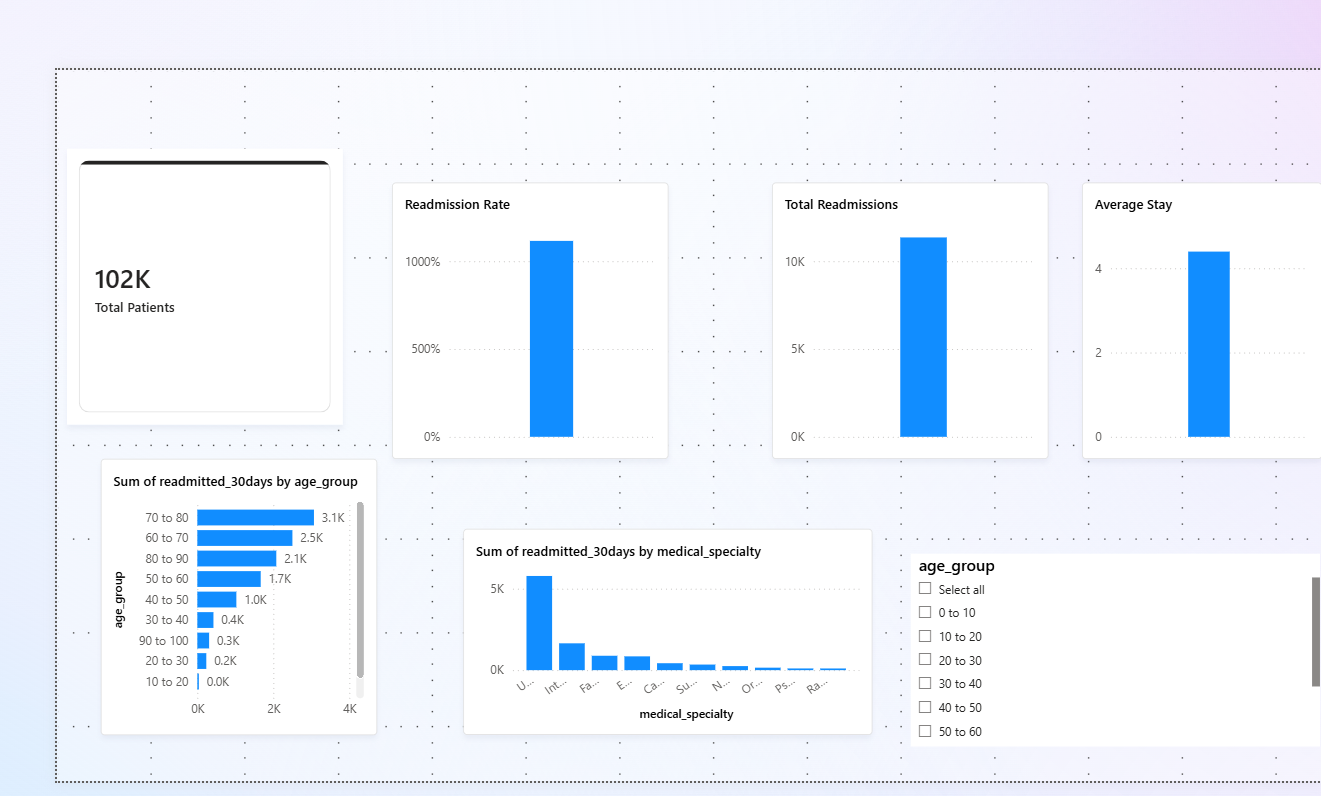

The page's visual inventory and layout, read from the dashboard file:
{"tool":"powerbi","page":{"name":"Page 1","canvas":[1280,720],"ordinal":0},"visuals":[{"type":"cardVisual","fields":{"Data":["patients_clean.Total Patients"]},"box":[9.6,79.6,279.9,279.9],"z":0},{"type":"clusteredColumnChart","fields":{"Y":["patients_clean.Readmission Rate"]},"box":[338.9,113.9,279.9,279.9],"z":1000},{"type":"clusteredColumnChart","fields":{"Y":["patients_clean.Total Readmissions"]},"box":[724.5,113.9,279.9,279.9],"z":2000},{"type":"clusteredColumnChart","fields":{"Y":["patients_clean.Average Stay"]},"box":[1037.4,113.9,242.9,279.9],"z":3000},{"type":"clusteredBarChart","fields":{"Category":["patients_clean.age_group"],"Y":["Sum(patients_clean.readmitted_30days)"]},"box":[43.9,393.8,279.9,279.9],"z":4000},{"type":"clusteredColumnChart","fields":{"Category":["patients_clean.medical_specialty"],"Y":["Sum(patients_clean.readmitted_30days)"]},"box":[411.7,465.2,414.4,208.6],"z":5000},{"type":"slicer","fields":{"Values":["patients_clean.age_group"]},"box":[864.5,489.9,414.4,194.9],"z":5001}]}

Visuals, with their boxes on the page's 1280x720 design canvas (x1, y1, x2, y2). These are canvas units, not pixel positions in the 1321x796 screenshot, which may show the page scaled, cropped or inside an application window:
cardVisual - patients_clean.Total Patients: box(10, 80, 290, 360)
clusteredColumnChart - patients_clean.Readmission Rate: box(339, 114, 619, 394)
clusteredColumnChart - patients_clean.Total Readmissions: box(724, 114, 1004, 394)
clusteredColumnChart - patients_clean.Average Stay: box(1037, 114, 1280, 394)
clusteredBarChart - patients_clean.age_group x Sum(patients_clean.readmitted_30days): box(44, 394, 324, 674)
clusteredColumnChart - patients_clean.medical_specialty x Sum(patients_clean.readmitted_30days): box(412, 465, 826, 674)
slicer - patients_clean.age_group: box(864, 490, 1279, 685)
